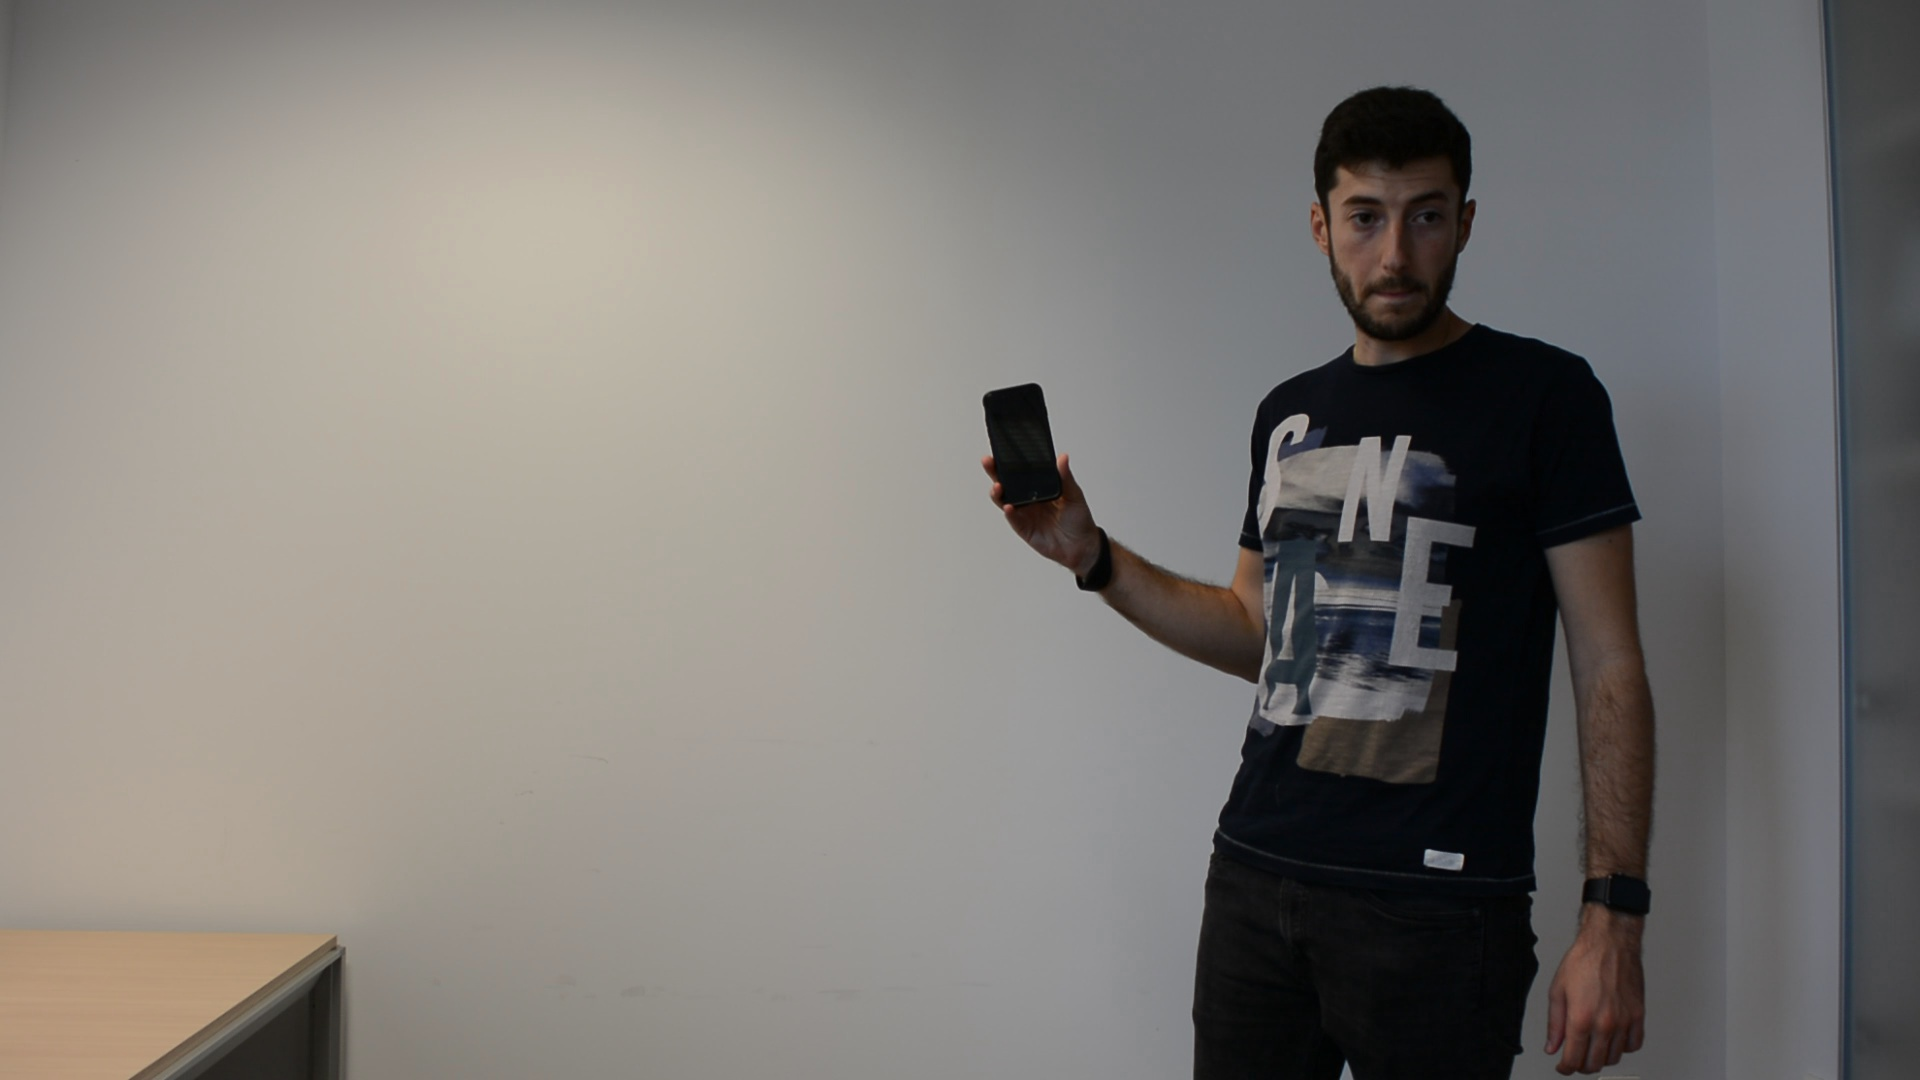smartphone: (982, 382, 1065, 510)
